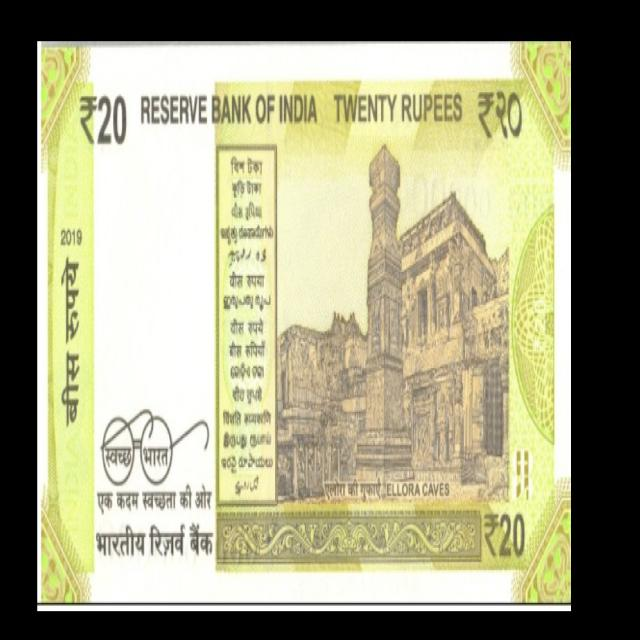20IndianRupees: (39, 41, 567, 604), (211, 43, 568, 611), (37, 41, 278, 614)
